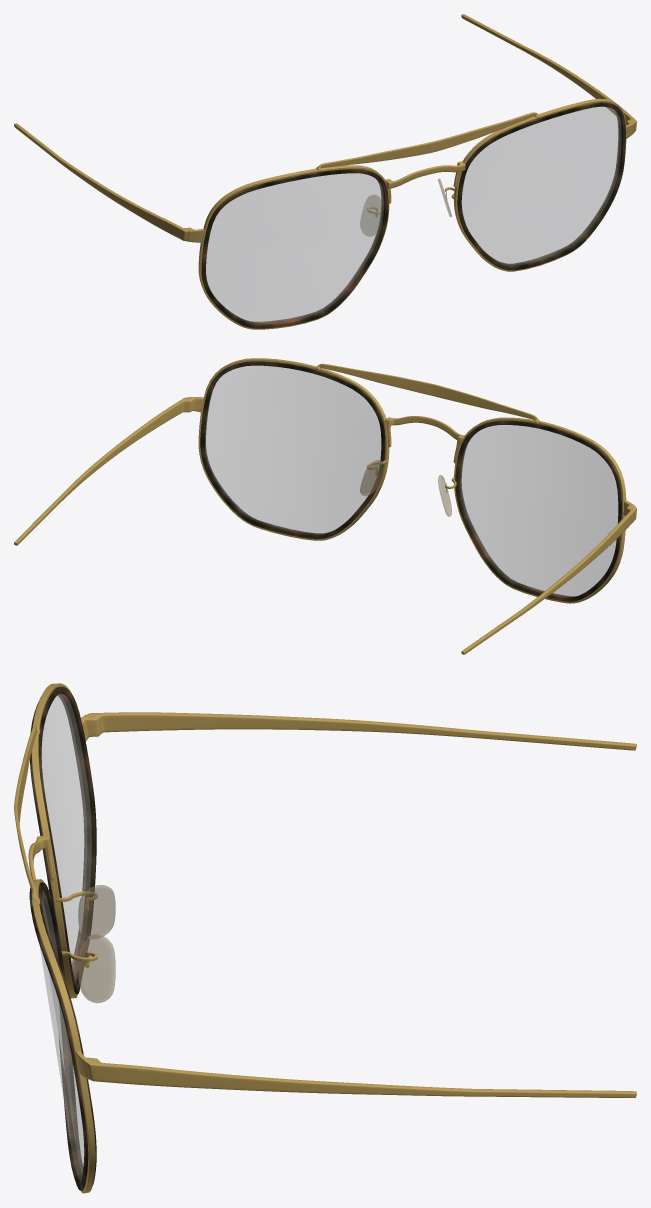
The model's file is marshal_grau_app.gltf.
The picture shows the model from 3 angles, top to bottom: view 1: azimuth 30°, elevation 25°; view 2: azimuth 150°, elevation 25°; view 3: azimuth 270°, elevation 25°; orthographic projection. The views are drawn at different scales.
Visible parts, largest first — view 1: lentes, armacao, acetato, ponte; view 2: lentes, armacao, acetato, ponte; view 3: armacao, lentes, acetato, ponte.
Boxes of the visible parts, x1,y1,x2,y2 form: lentes: (206, 106, 621, 323); armacao: (14, 14, 636, 329); acetato: (201, 102, 625, 328); ponte: (360, 178, 451, 236); lentes: (205, 365, 618, 596); armacao: (14, 358, 636, 654); acetato: (200, 361, 621, 601); ponte: (360, 460, 451, 516); armacao: (14, 683, 636, 1193); lentes: (40, 694, 91, 1181); acetato: (29, 686, 96, 1190); ponte: (78, 885, 115, 1003).
Bounding box in the file's own units: 0.159 × 0.0542 × 0.1144.
4 materials, 3 textured.
